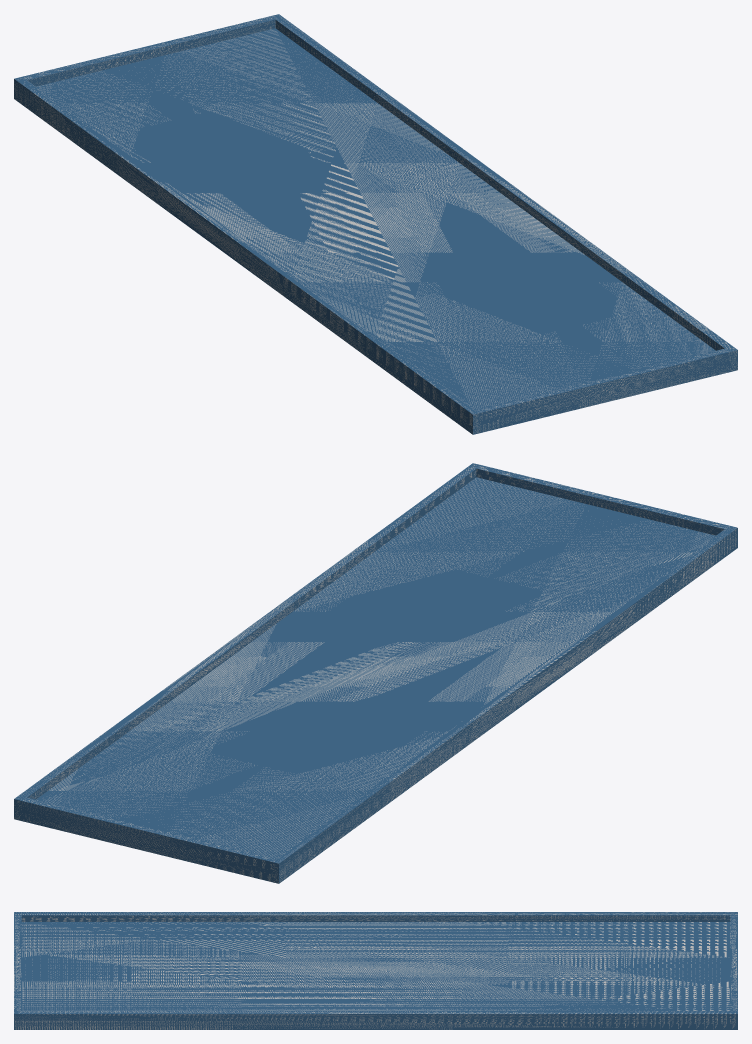
3 views of the same model, one above another, from view 1: azimuth 30°, elevation 25°; view 2: azimuth 150°, elevation 25°; view 3: azimuth 270°, elevation 25° (orthographic). The views are drawn at different scales.
Parts seen in each view (by area): view 1: mesh1_mesh1-geometry; view 2: mesh1_mesh1-geometry; view 3: mesh1_mesh1-geometry.
Boxes of the visible parts, bbox=[...] form: mesh1_mesh1-geometry: bbox=[14, 14, 737, 434]; mesh1_mesh1-geometry: bbox=[14, 463, 737, 883]; mesh1_mesh1-geometry: bbox=[14, 912, 737, 1029].
Size of the model in its own units: 0.3161 by 0.0231 by 0.9484.
